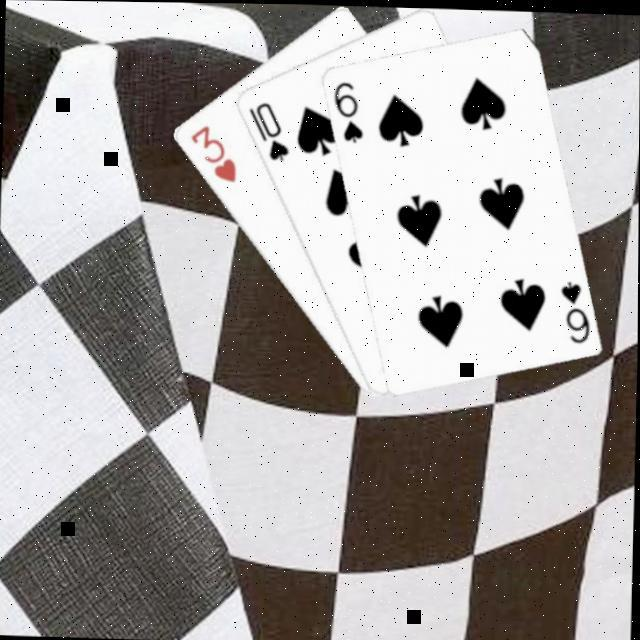10S: (243, 95, 292, 163)
3H: (184, 119, 239, 184)
6S: (328, 74, 367, 144), (554, 274, 592, 343)
